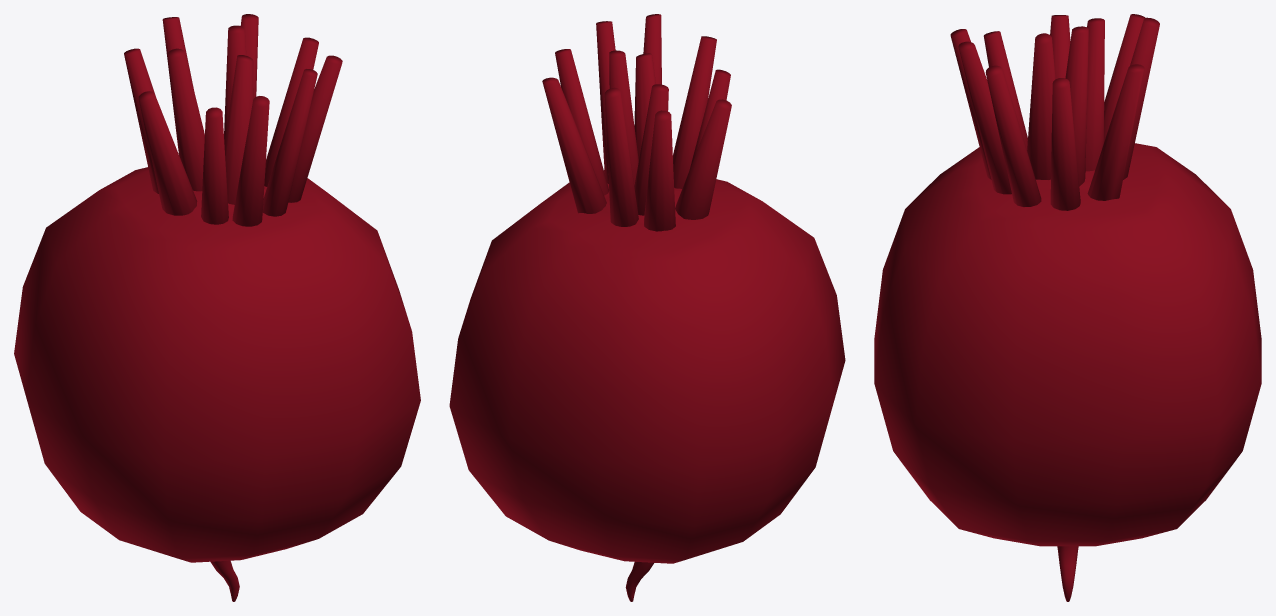
File: Beetroot.fbx
3 renders of one model, left to right at view 1: azimuth 30°, elevation 25°; view 2: azimuth 150°, elevation 25°; view 3: azimuth 270°, elevation 25°, orthographic. The views are drawn at different scales.
Visible parts, largest first — view 1: Beetroot; view 2: Beetroot; view 3: Beetroot.
Part boxes in pixels (bbox=[...]): Beetroot: bbox=[14, 14, 420, 601]; Beetroot: bbox=[449, 14, 845, 601]; Beetroot: bbox=[874, 14, 1261, 601].
Bounding box in the file's own units: 117 × 194 × 118.
